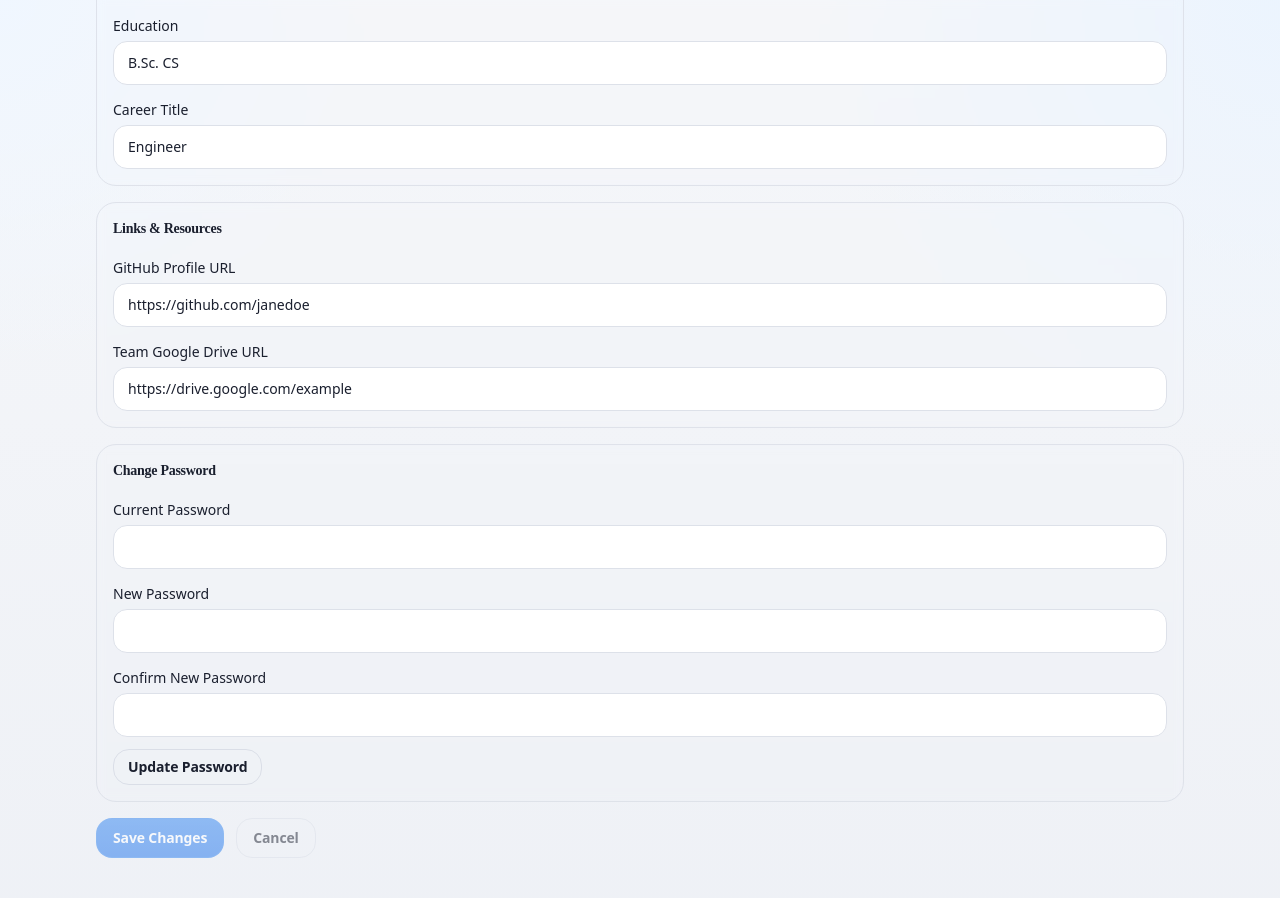
Test case: ProfilePage › password validation - mismatch error
(page scrolled)
Type "oldpass123" into the password field labelled "Current Password" at x=640, y=546, box x1=113 y1=524 x2=1167 y2=568
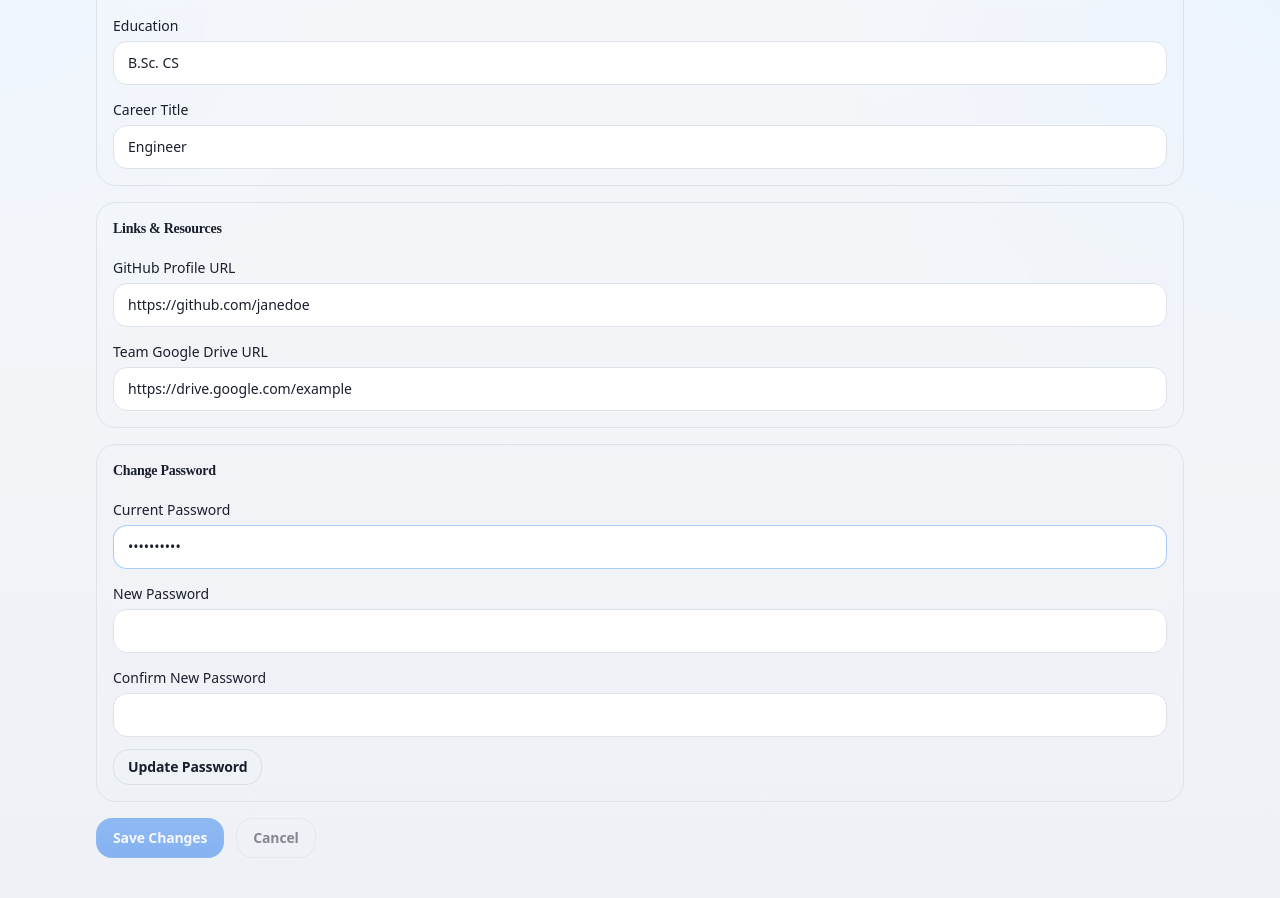
Type "password123" into the password field labelled "New Password" at x=640, y=630, box x1=113 y1=608 x2=1167 y2=652
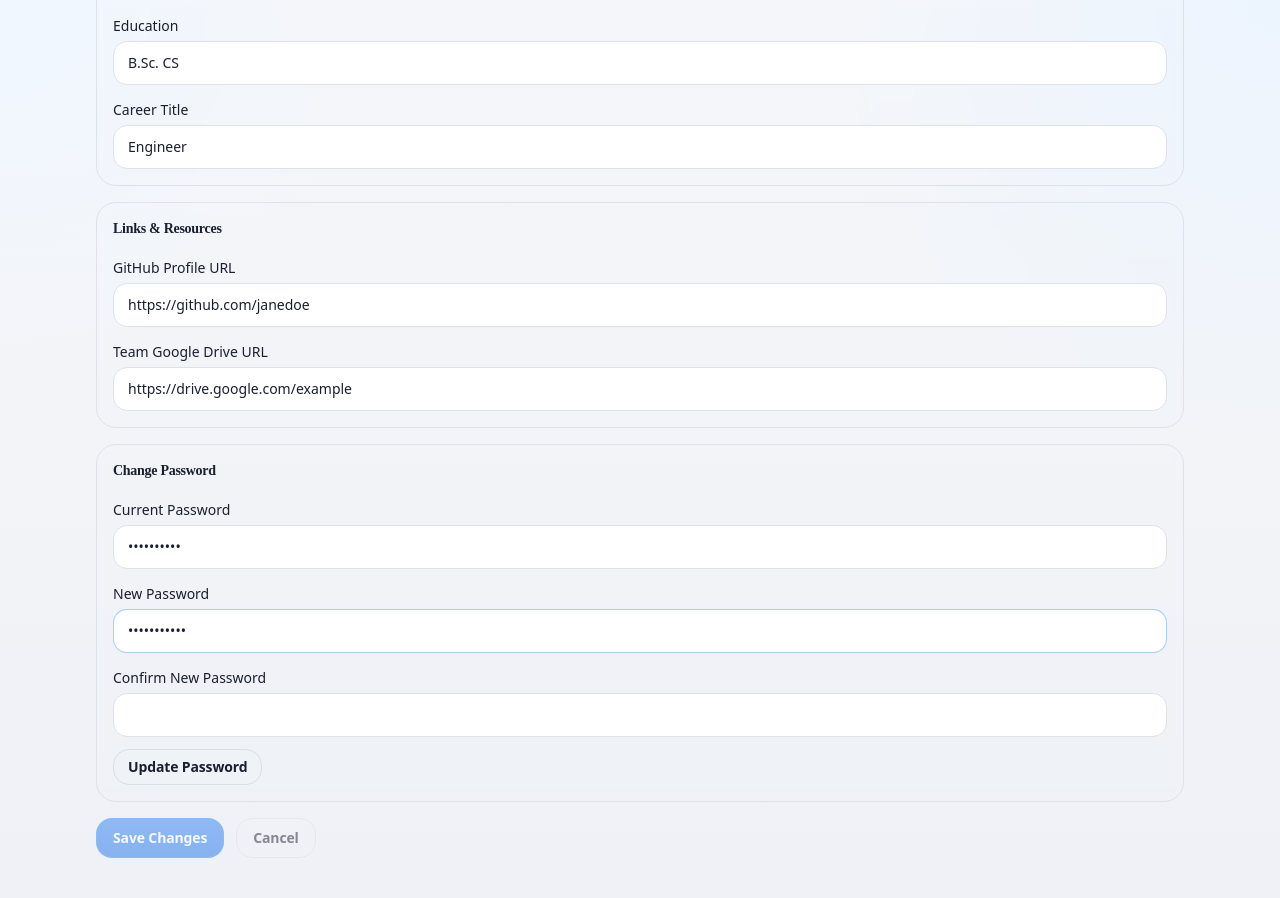
Type "different456" into the password field labelled "Confirm New Password" at x=640, y=714, box x1=113 y1=692 x2=1167 y2=736
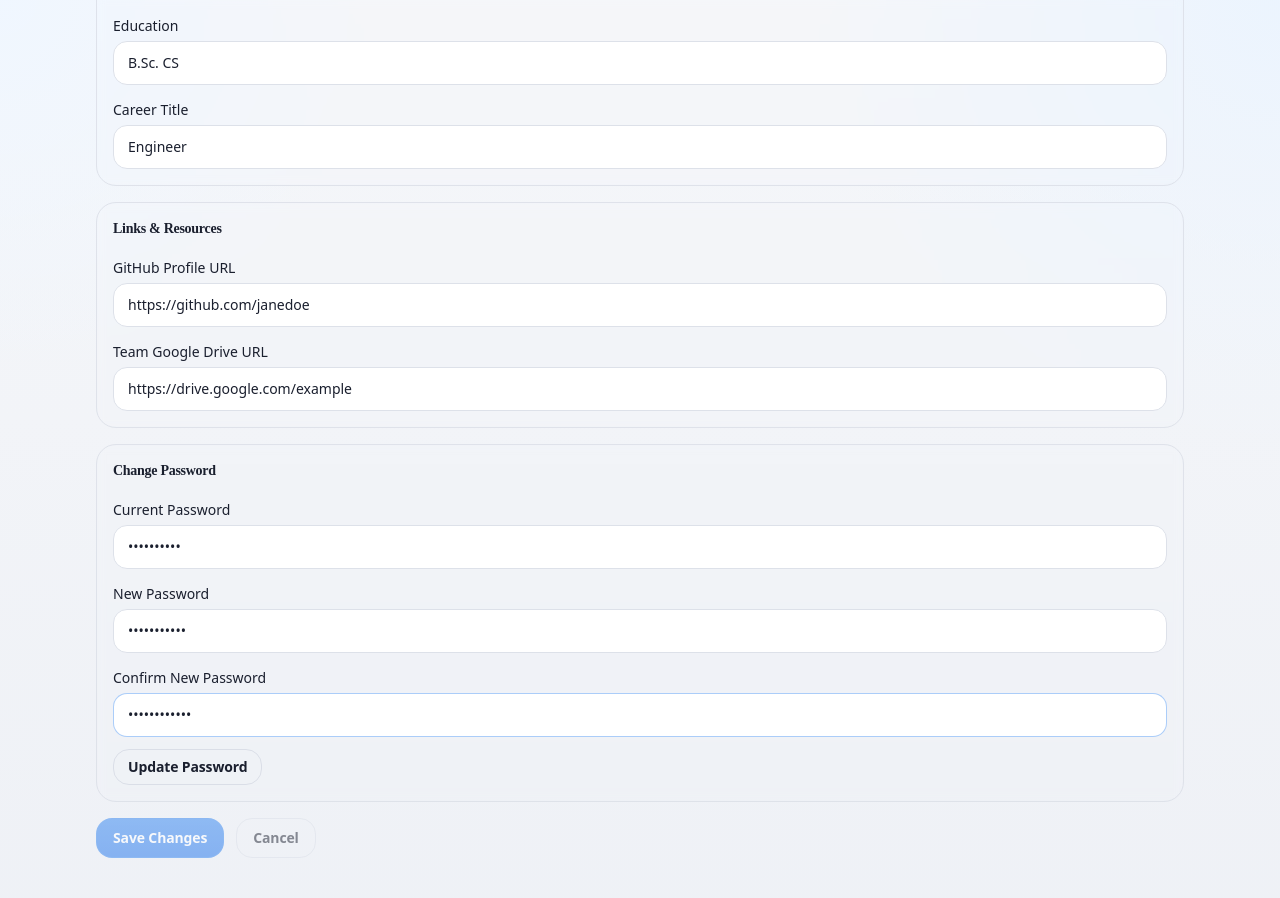
Click the button "Update Password" at x=188, y=766, box x1=113 y1=748 x2=262 y2=784
(page scrolled)
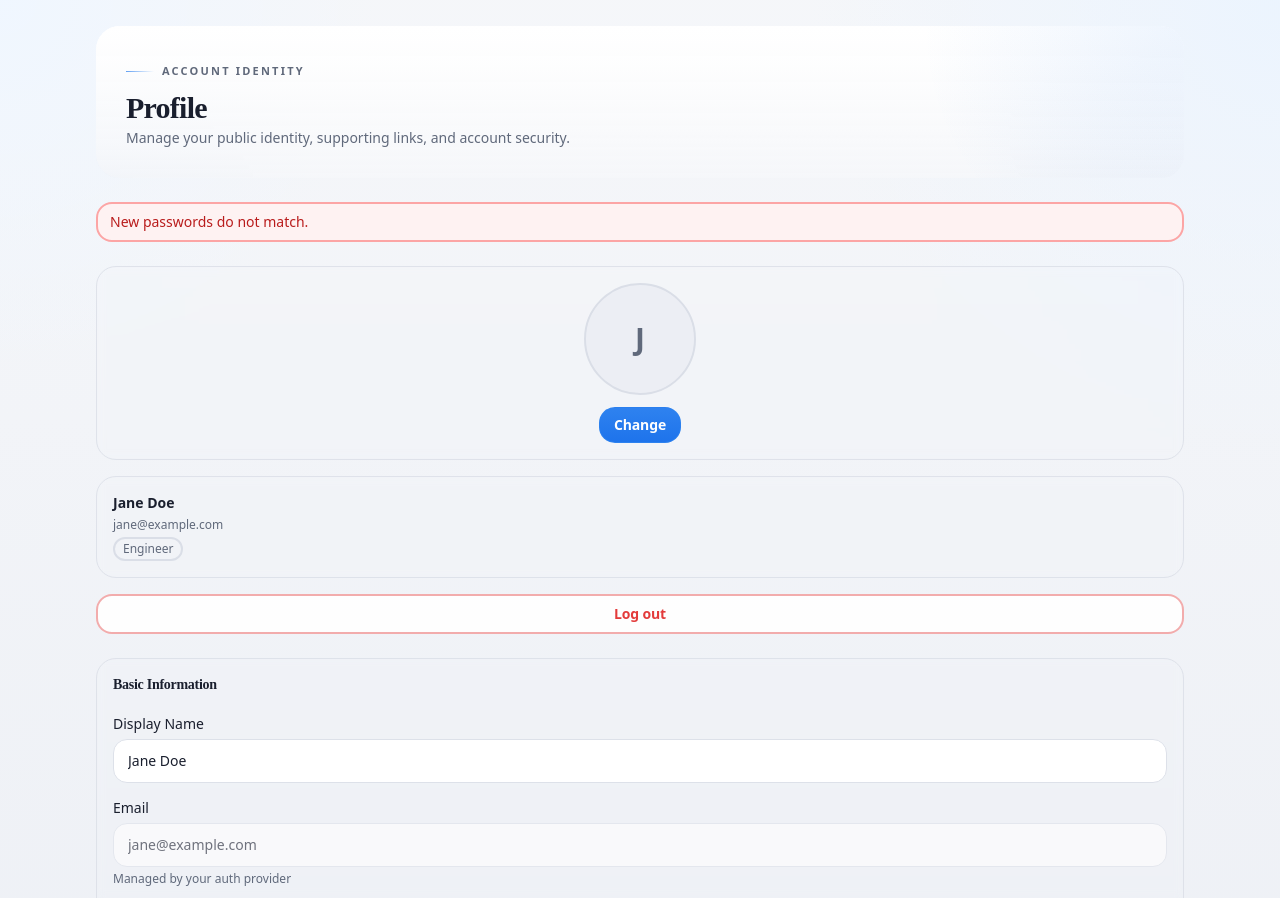
Expected: the message reads "New passwords do not match.", x1=110 y1=212 x2=308 y2=230
